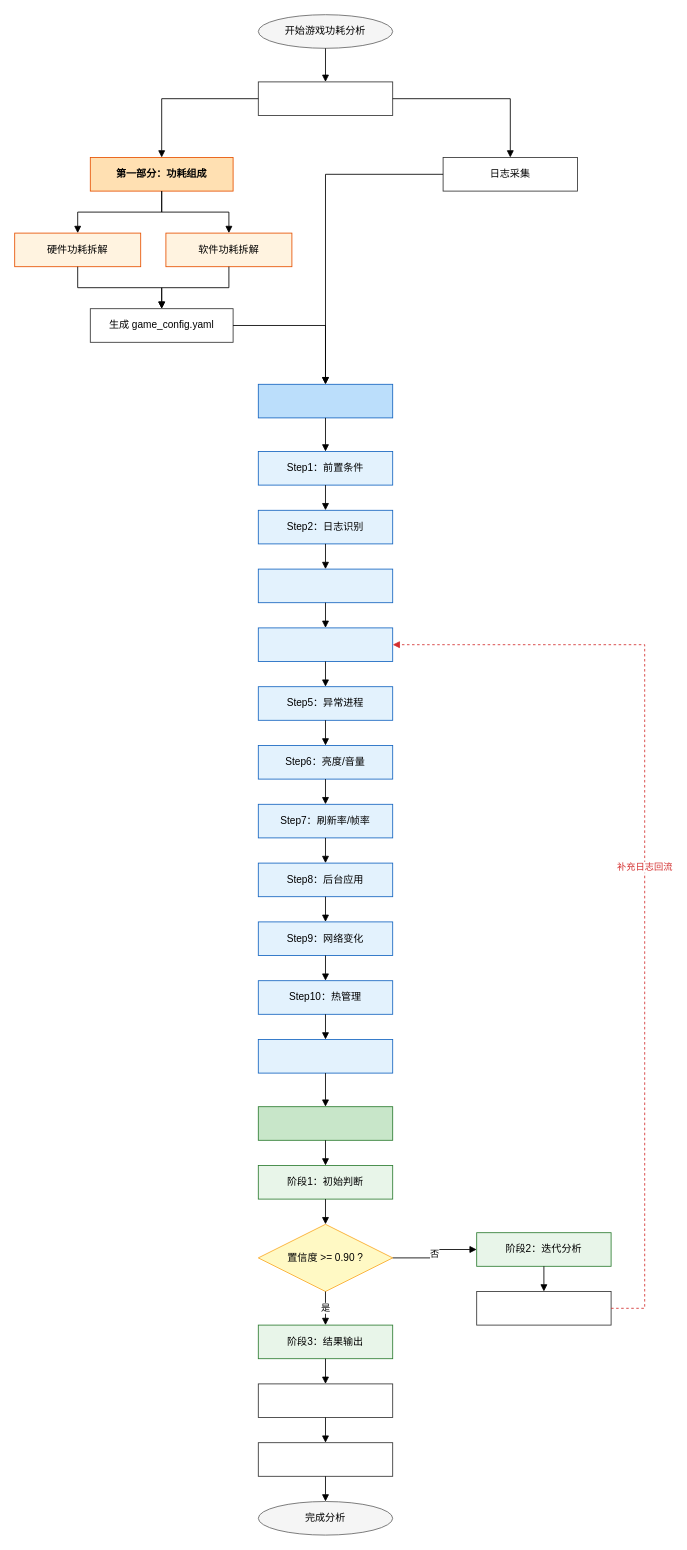
Image size: 687x1550. Some labels were removed from this diagram. Each missing label, with the box of its shape:
Step11：其他因素: (257, 1039, 393, 1073)
Step3：场景识别: (257, 568, 393, 603)
Step4：CPU/GPU/DDR: (257, 627, 393, 662)
准备阶段: (257, 81, 393, 116)
收集补充日志: (476, 1291, 611, 1325)
生成图表: (257, 1383, 393, 1418)
生成报告: (257, 1442, 393, 1476)
第三部分：AI 分析: (257, 1106, 393, 1140)
第二部分：11 步分析: (257, 383, 393, 418)
